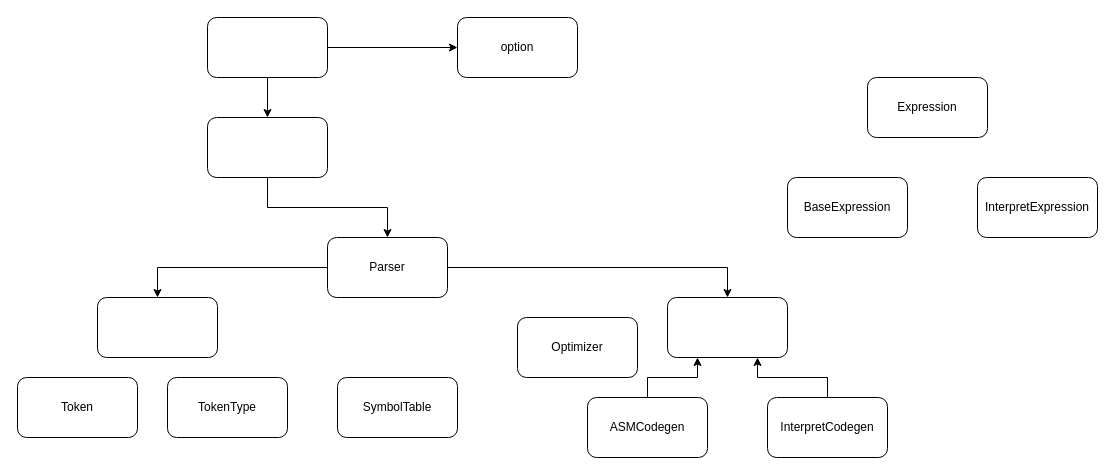
This 1115x475 diagram has some shape labels left out. The shapes that lost their labels are listed below. From the top down, each one's centre as x and y in pixels, then its label:
At (x=267, y=47): "YaparserFactory".
At (x=267, y=147): "Yaparser".
At (x=157, y=327): "Lexer".
At (x=727, y=327): "Codegen".
